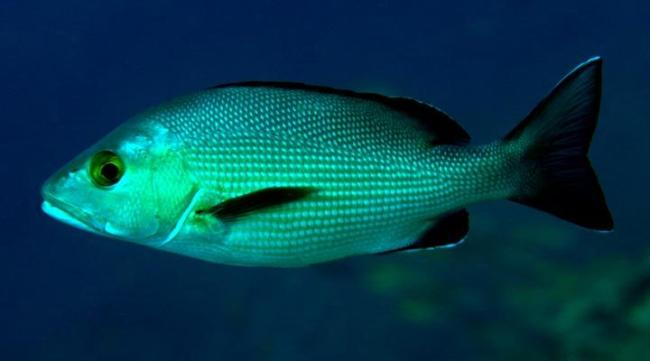fish: (39, 55, 619, 269)
